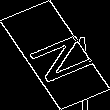N_NE: (15, 25, 95, 85)
